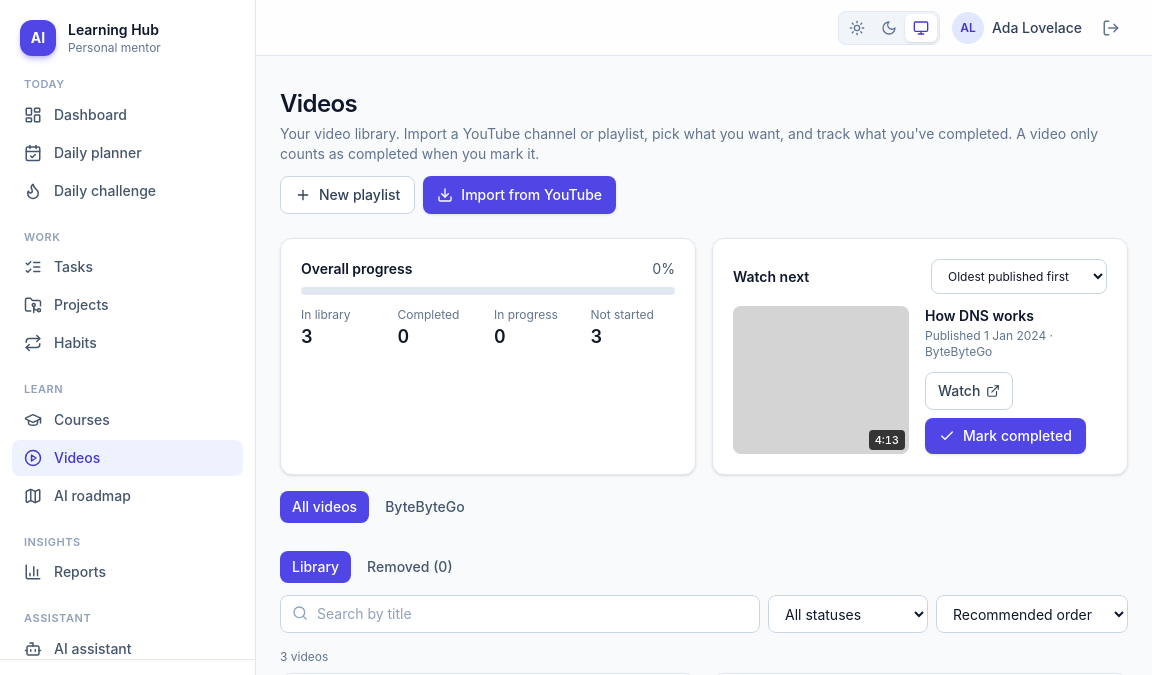
Test: collections › shows the server's message for a duplicate name
Click the button "New playlist". click: click(348, 195)
box: [280,176,415,214]
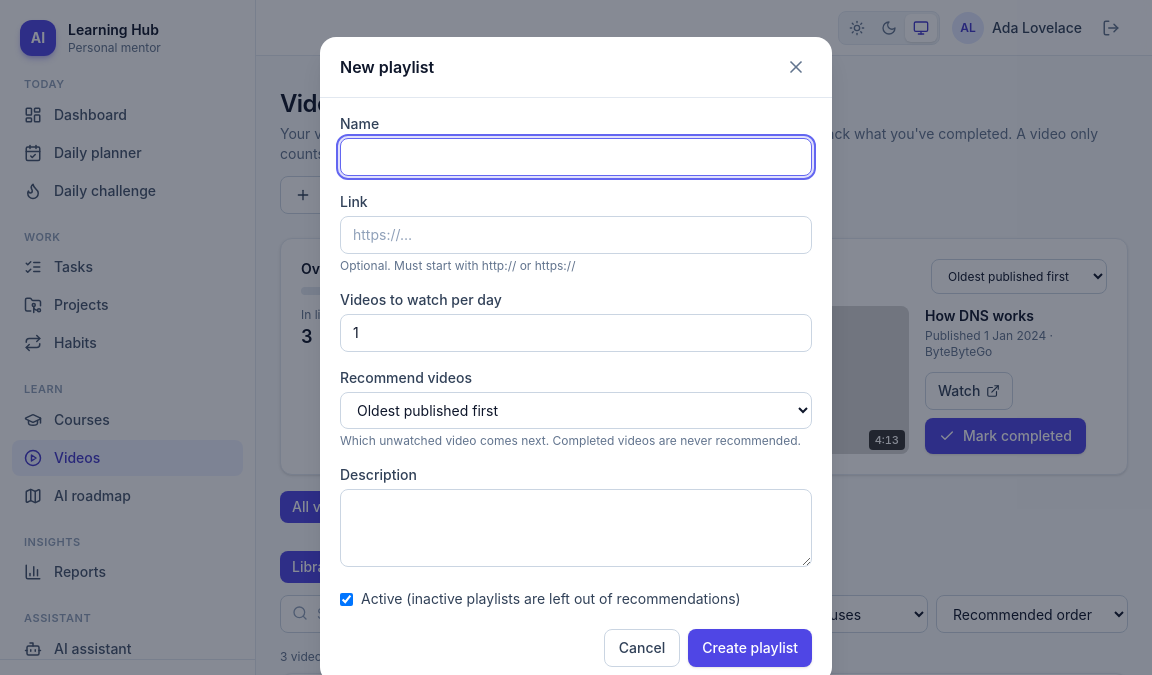
Type "bytebytego" into the field labelled "Name". click: (576, 157)
box: [340,138,812,176]
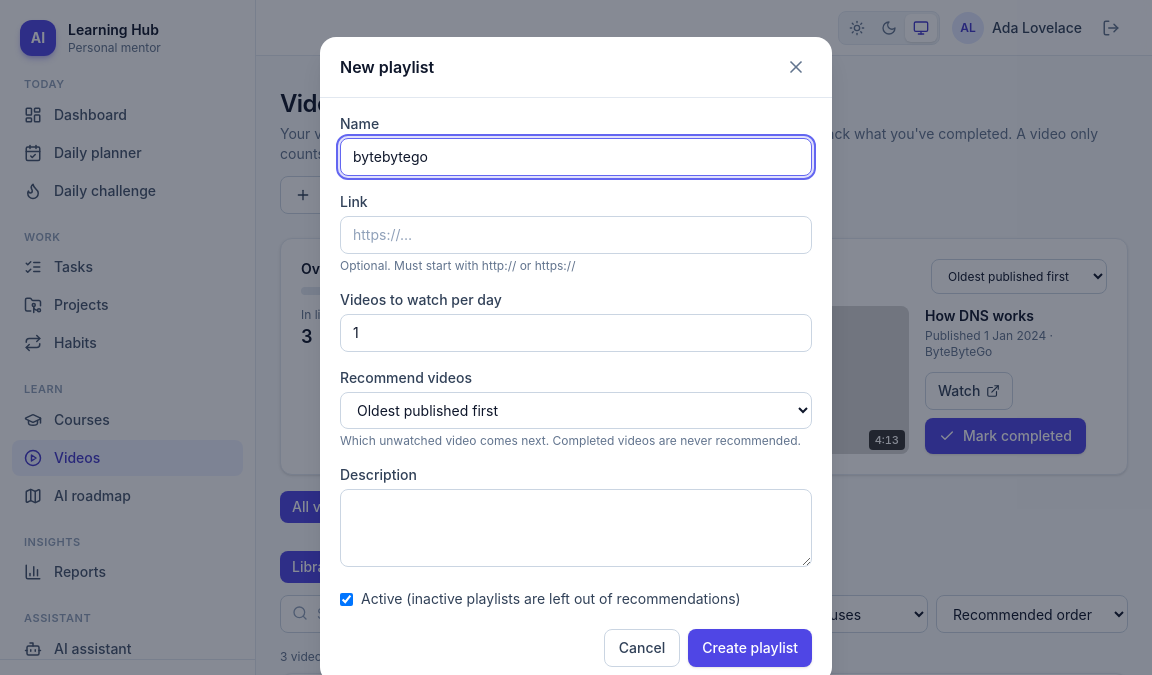
Click the button "Create playlist". click: click(750, 648)
box: [688,629,812,667]
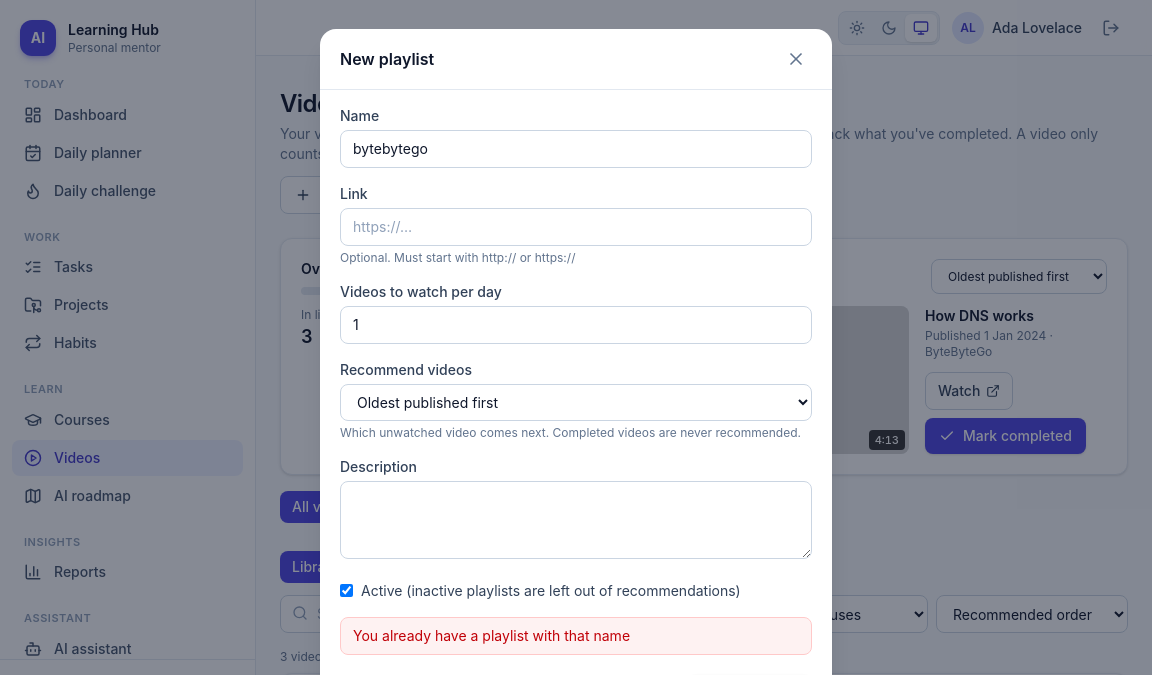
Result: the message shows "already have a playlist with that name" at [353,627,630,644]
